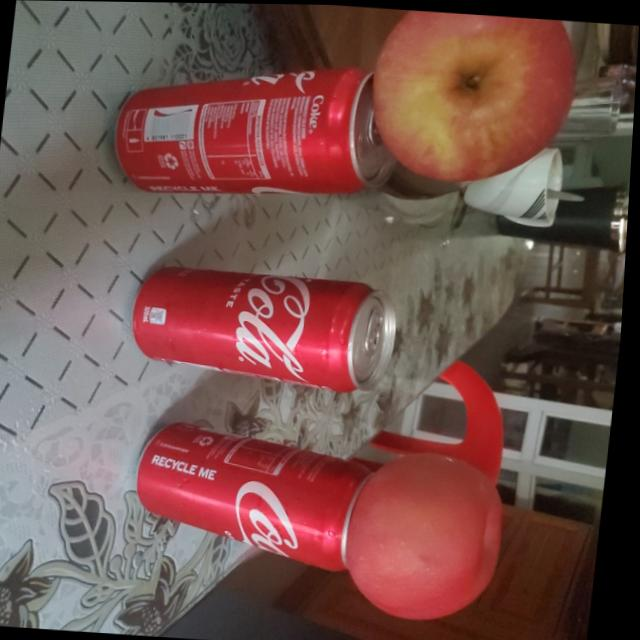apple: (360, 7, 579, 184), (347, 446, 515, 624)
coke: (113, 53, 399, 212), (132, 421, 395, 578), (130, 260, 403, 394)
